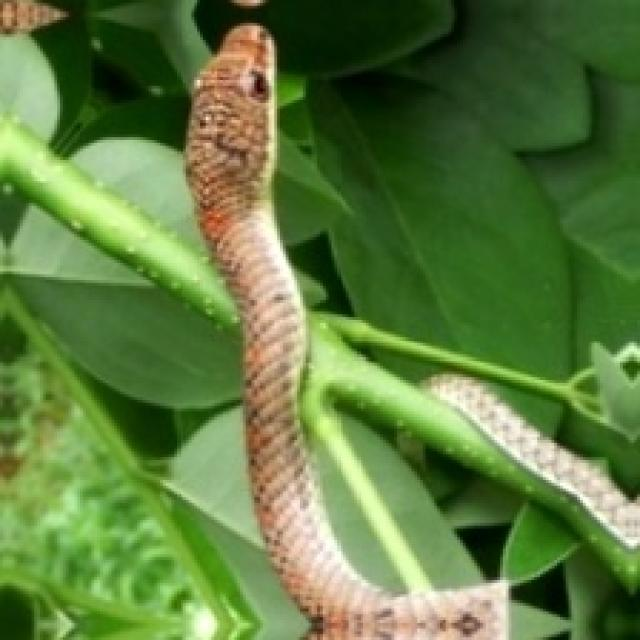paradise tree snake: (186, 26, 506, 637)
